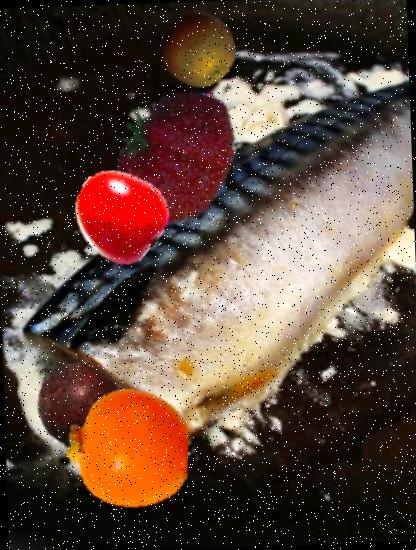Apple: (158, 9, 238, 90)
Mangostan: (32, 356, 138, 462)
Physalis: (63, 384, 190, 511)
Strawberry: (101, 86, 246, 232)
Tomato: (71, 166, 167, 262)
